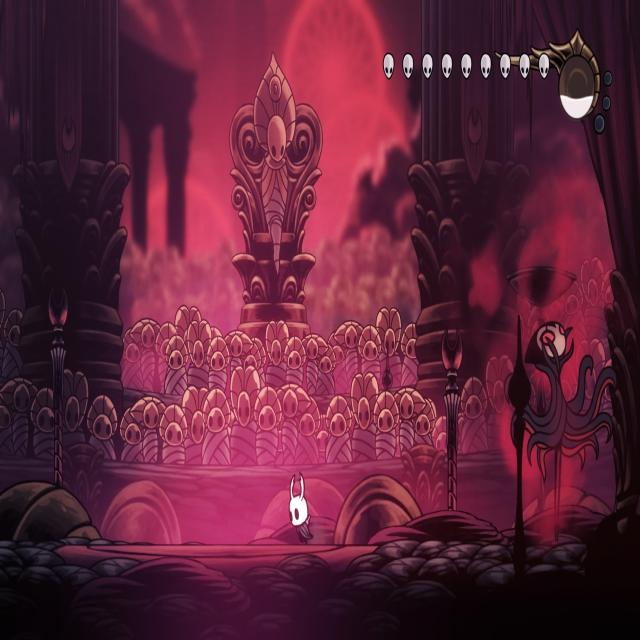Grimm: (504, 314, 618, 544)
Player: (286, 469, 312, 549)
